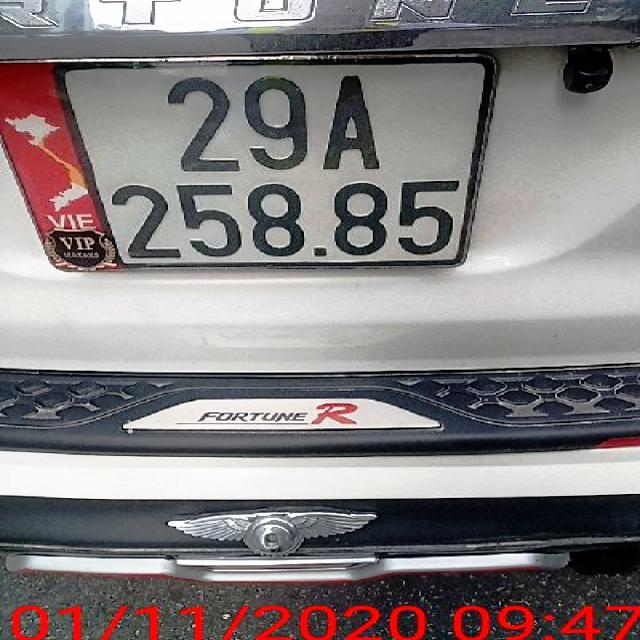license_plate: (6, 54, 488, 271)
